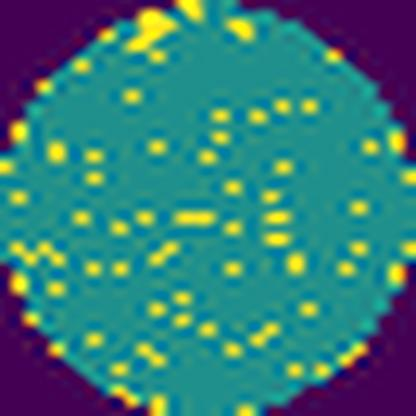Edge-Loc: (122, 7, 184, 66)
